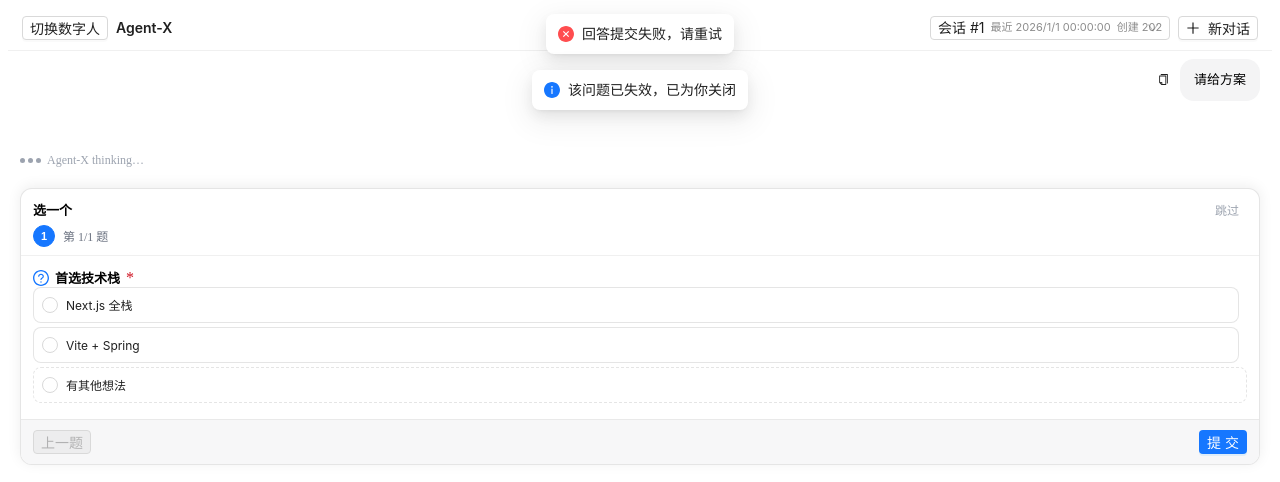
Test case: WorkitemClarificationPanel ACP 交互接线 › 流式时间线里的 pending 卡片提交 409 后也撤下
Expected: the text "请给方案" is shown, [1180,59,1260,101]
Expected: the element with test id "elicitation-wizard-req-s" is shown, [20,188,1260,465]
Click the radio button with test id "elicitation-option-q0-0".
click(99, 306)  # box [33,287,1239,323]
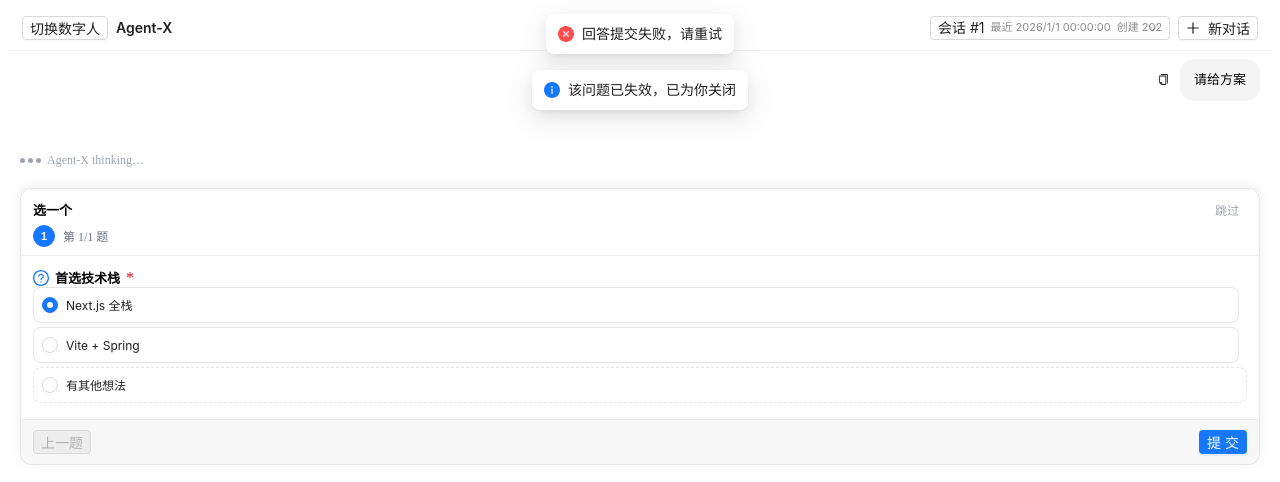
Click the button with test id "elicitation-submit-req-s".
click(1223, 442)  # box [1199,430,1247,454]
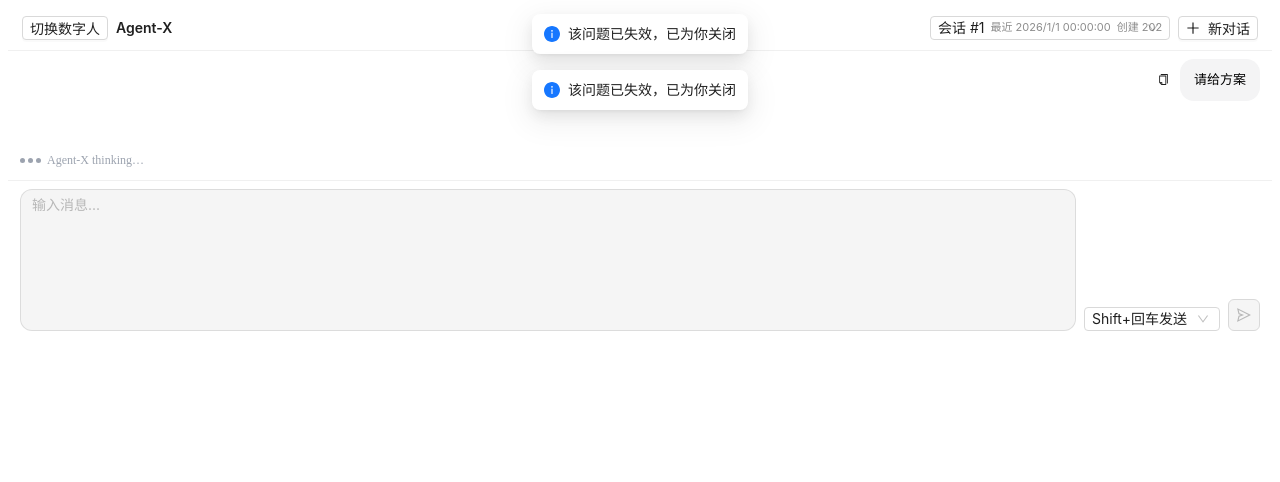
Expected: the 1st text "该问题已失效，已为你关闭" is shown, [568,23,736,45]
Expected: the element with test id "elicitation-wizard-req-s" is gone
